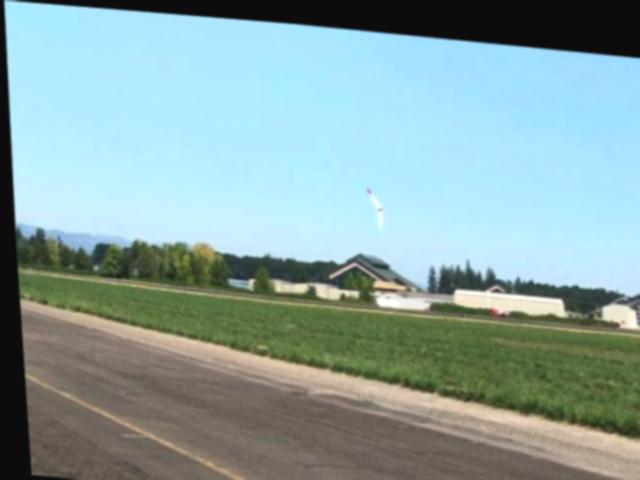flying wing: (361, 179, 383, 227)
